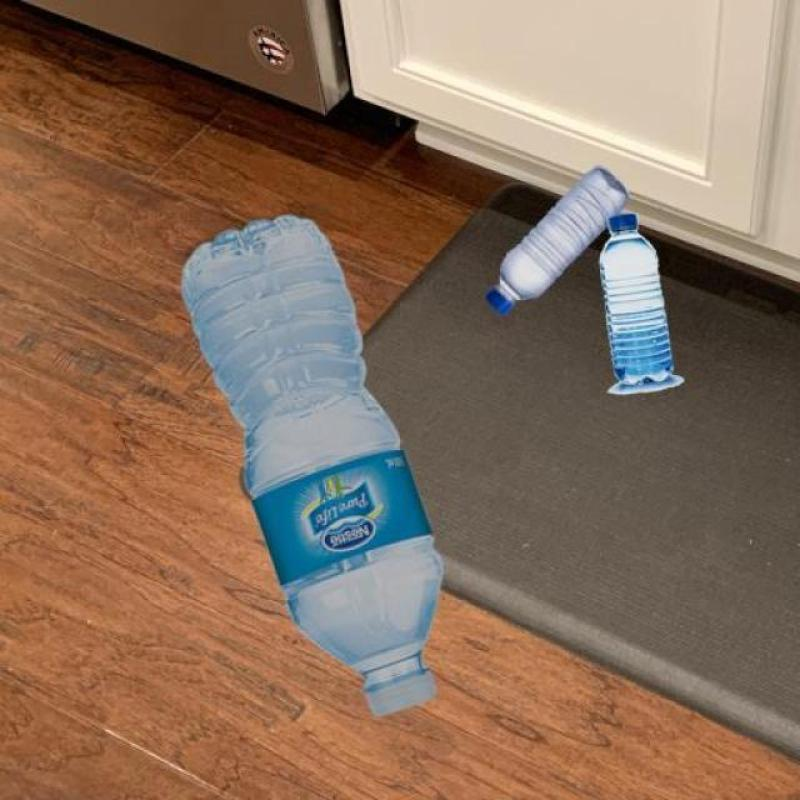botella: (175, 213, 443, 723), (485, 162, 629, 312), (594, 213, 675, 389)
